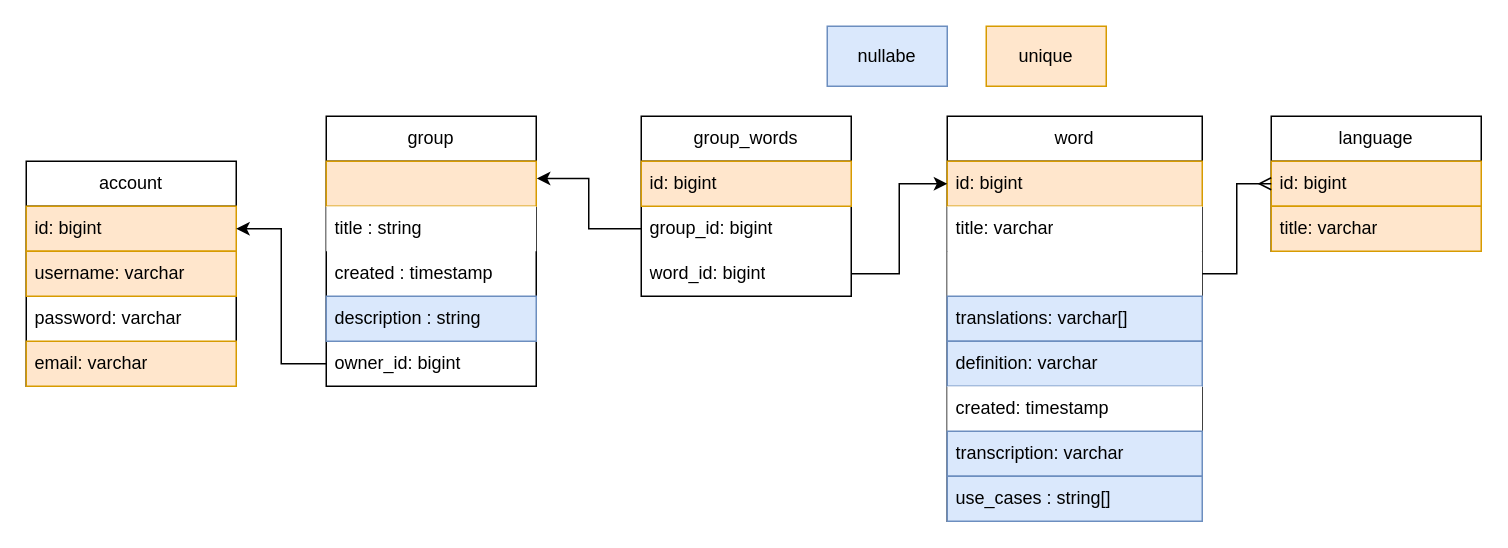
This 1508x548 diagram has some shape labels left out. The centre of each missing label's shape, as x and y in pixels:
"id : bigint" goes at (x=430, y=183).
"language_id: bigint" goes at (x=1074, y=273).
